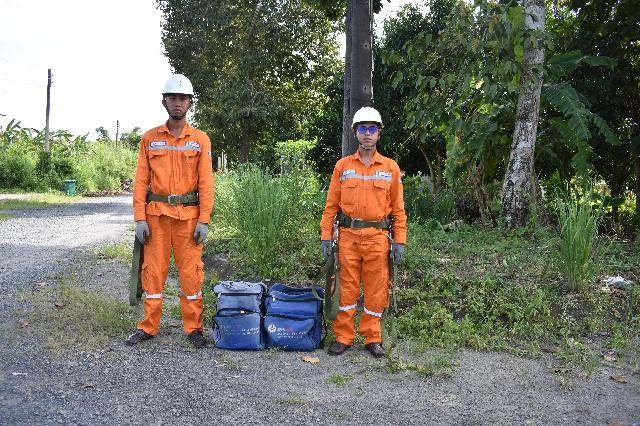gloves: (128, 223, 161, 243), (190, 220, 214, 246), (383, 239, 406, 265), (310, 238, 336, 256)
harness: (328, 206, 401, 234), (140, 187, 205, 213)
helmet: (153, 72, 202, 99), (345, 100, 388, 129)
shoes: (121, 327, 159, 345), (185, 325, 211, 349), (328, 335, 353, 359), (364, 339, 390, 362)
